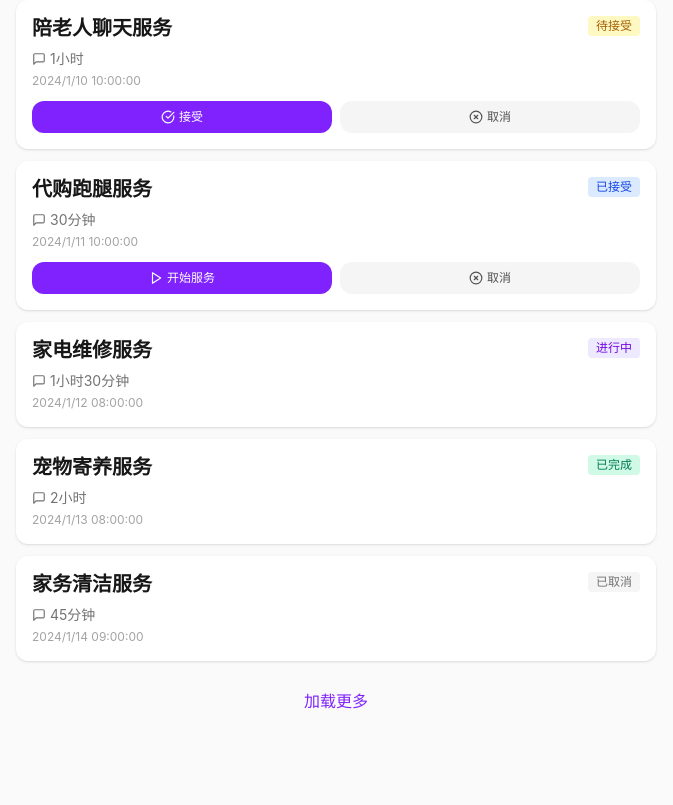
Test: TimeBank/MyOrders 订单列表 › 点击"加载更多"触发分页加载
(page scrolled)
Expected: the heading "陪老人聊天服务" is shown, [32,16,172,40]
Note: "加载更多"按钮应可见
Click the button "加载更多".
click(336, 701)  # box [16,677,656,725]
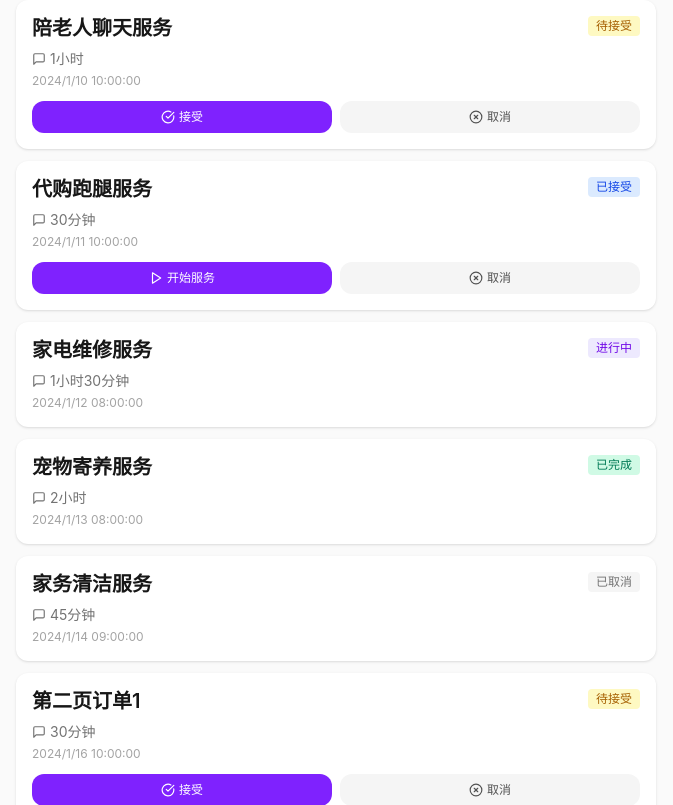
Now the heading "第二页订单1" is shown, box [32,689,140,713]
